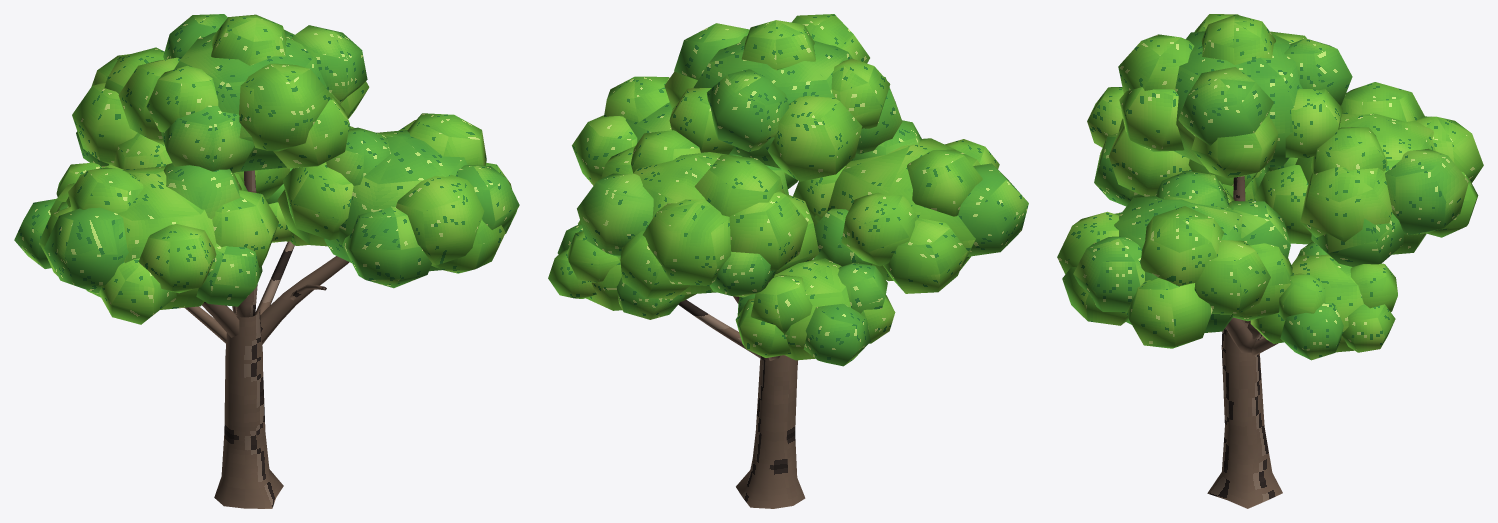
Rendered from p_bi_leafy.glb.
The picture shows the model from 3 angles, left to right: view 1: azimuth 30°, elevation 25°; view 2: azimuth 150°, elevation 25°; view 3: azimuth 270°, elevation 25°; orthographic projection. The views are drawn at different scales.
Parts seen in each view (by area): view 1: p_bi_leafy_lod0; view 2: p_bi_leafy_lod0; view 3: p_bi_leafy_lod0.
Part boxes in pixels (<box>): p_bi_leafy_lod0: <box>14,14,519,508</box>; p_bi_leafy_lod0: <box>548,14,1028,508</box>; p_bi_leafy_lod0: <box>1057,14,1483,508</box>.
Size of what is drawn, in the model's own units: 7.25 by 7.42 by 6.1.
Materials: 2 (2 with a texture image).
